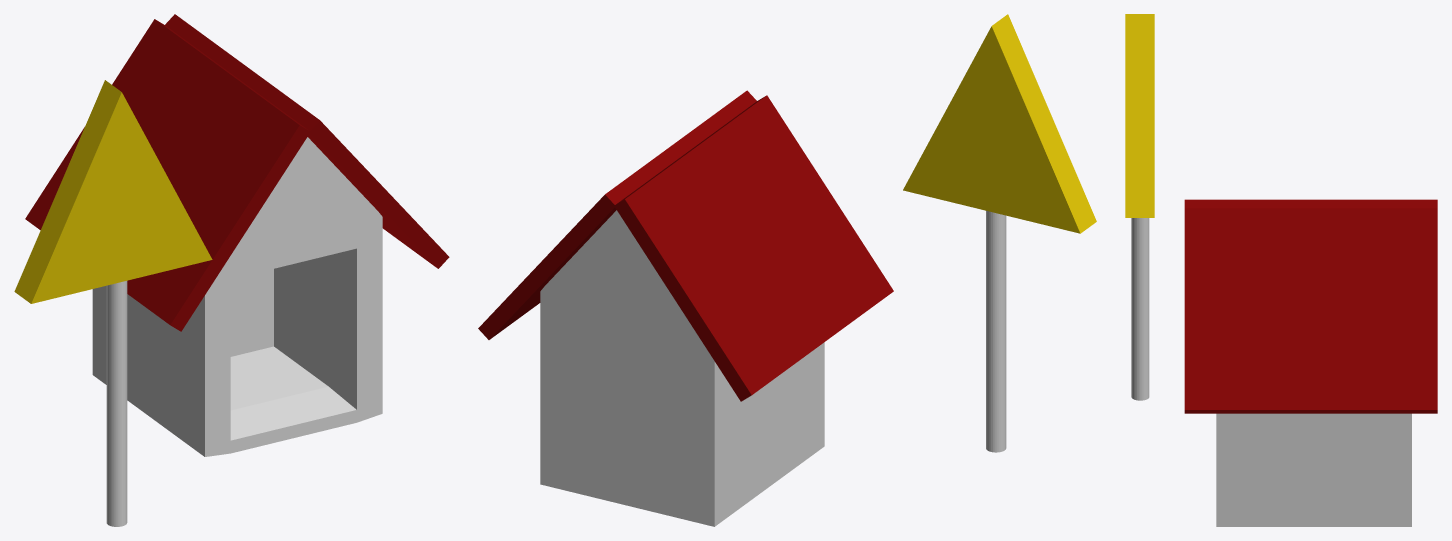
Rendered from DogHouse+Sign.fbx.
The picture shows the model from 3 angles, left to right: view 1: azimuth 30°, elevation 25°; view 2: azimuth 150°, elevation 25°; view 3: azimuth 270°, elevation 25°; orthographic projection. The views are drawn at different scales.
Visible parts, largest first — view 1: Cube.007, Cube.009, Cylinder; view 2: Cube.007, Cube.009, Cylinder; view 3: Cube.009, Cube.007, Cylinder.
Boxes of the visible parts, box(x1,y1,x2,y2) form: Cube.007: box(92, 137, 382, 456); Cube.009: box(25, 14, 449, 331); Cylinder: box(14, 80, 212, 526); Cube.007: box(540, 210, 824, 526); Cube.009: box(478, 90, 893, 401); Cylinder: box(903, 14, 1096, 452); Cube.009: box(1184, 199, 1437, 413); Cube.007: box(1216, 413, 1411, 526); Cylinder: box(1125, 14, 1154, 400).
Bounding box in the file's own units: 826 × 765 × 566.
